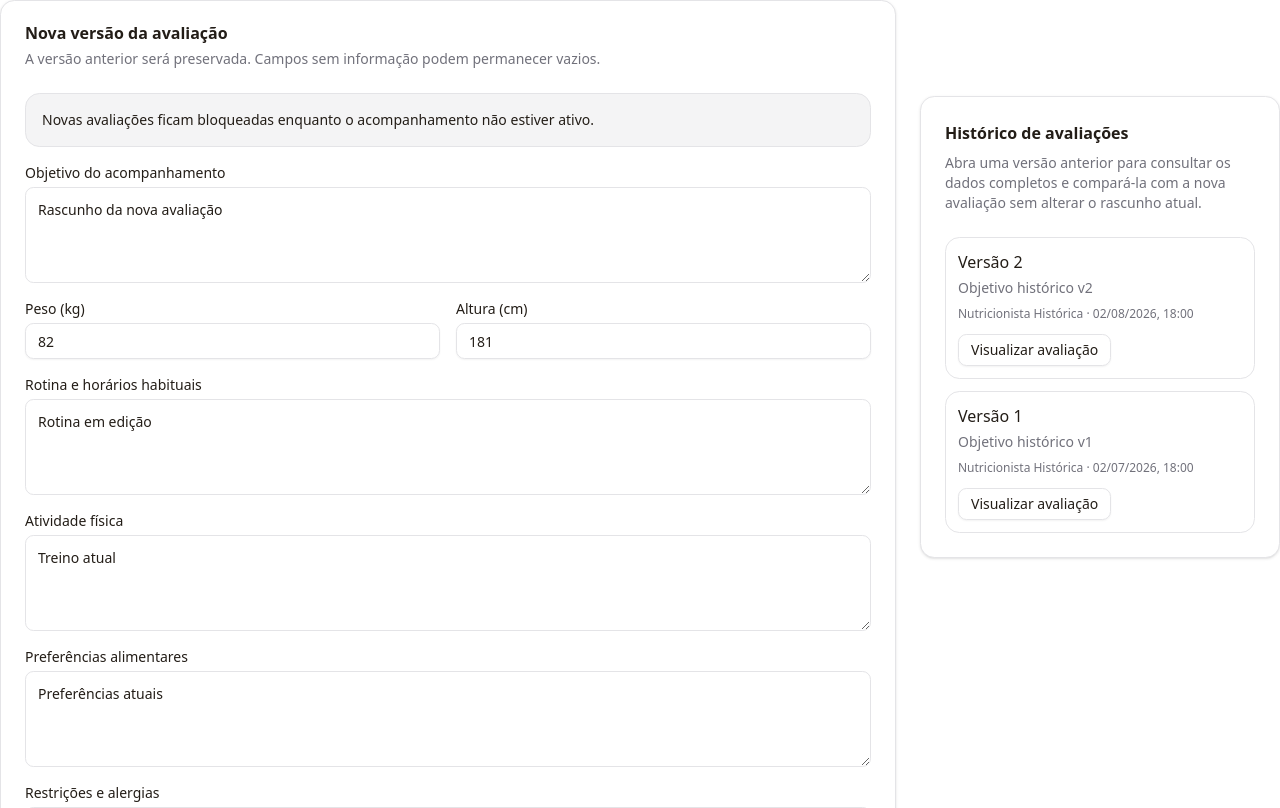
ProfessionalAssessmentComparison › keeps history readable while a paused tracking blocks saving a new version
The width and height of the screenshot is (1280, 808).
Click the button "Visualizar avaliação" below "02/08/2026, 18:00".
click(1035, 350)  # box [958,334,1111,366]
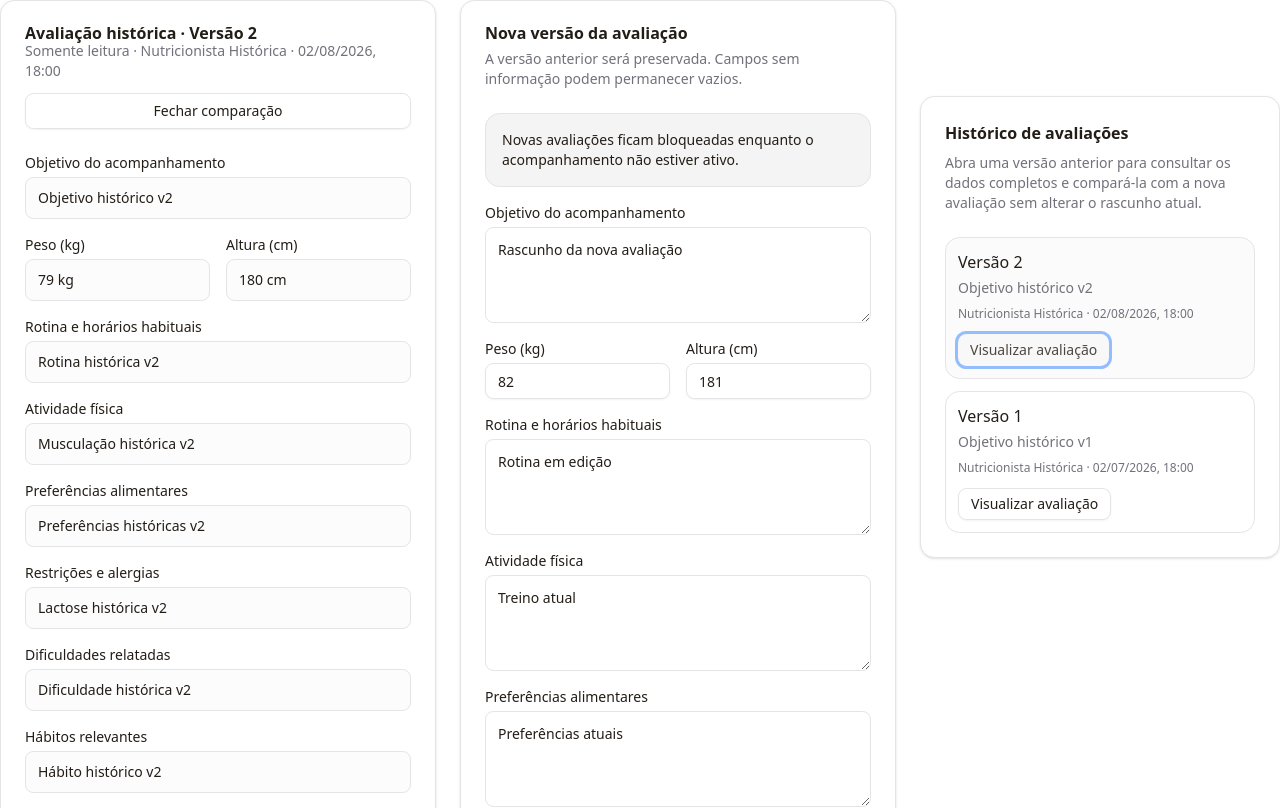
expect the text "Somente leitura" is shown: met, box [25,41,141,60]
